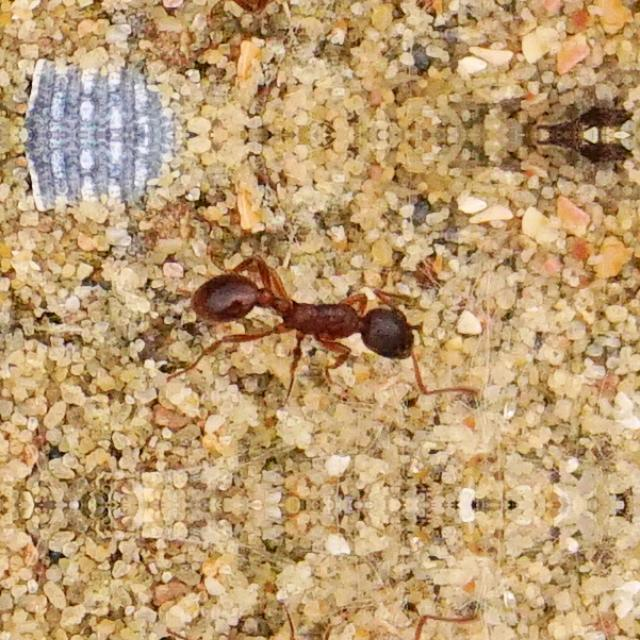Myrmica: (152, 238, 446, 386)
